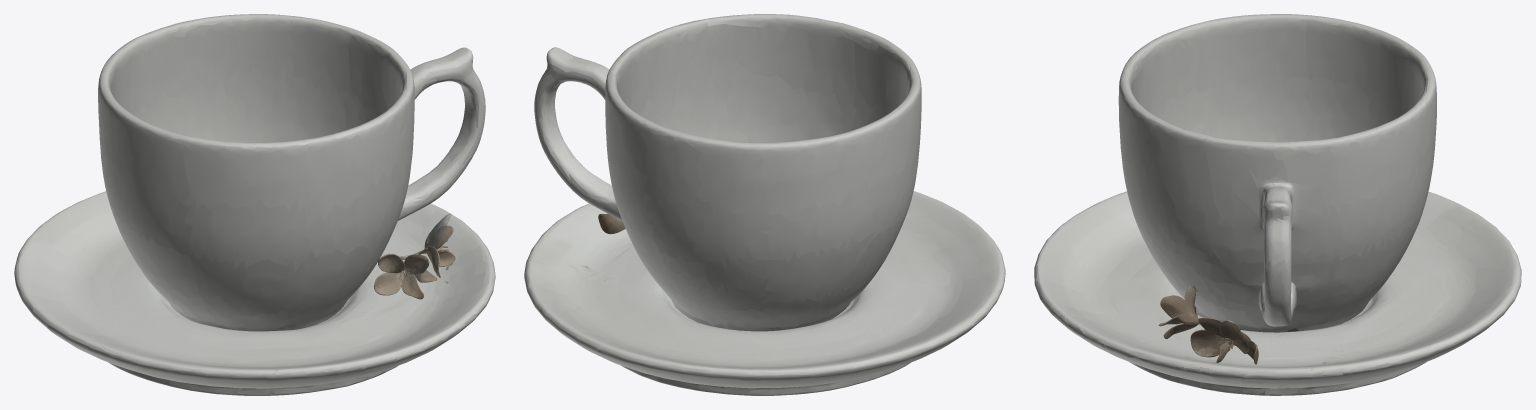
File: taza.glb
The picture shows the model from 3 angles, left to right: view 1: azimuth 30°, elevation 25°; view 2: azimuth 150°, elevation 25°; view 3: azimuth 270°, elevation 25°; orthographic projection.
Bounding box in the file's own units: 1.9 × 1.01 × 1.84.
Materials: 1 (1 with a texture image).
